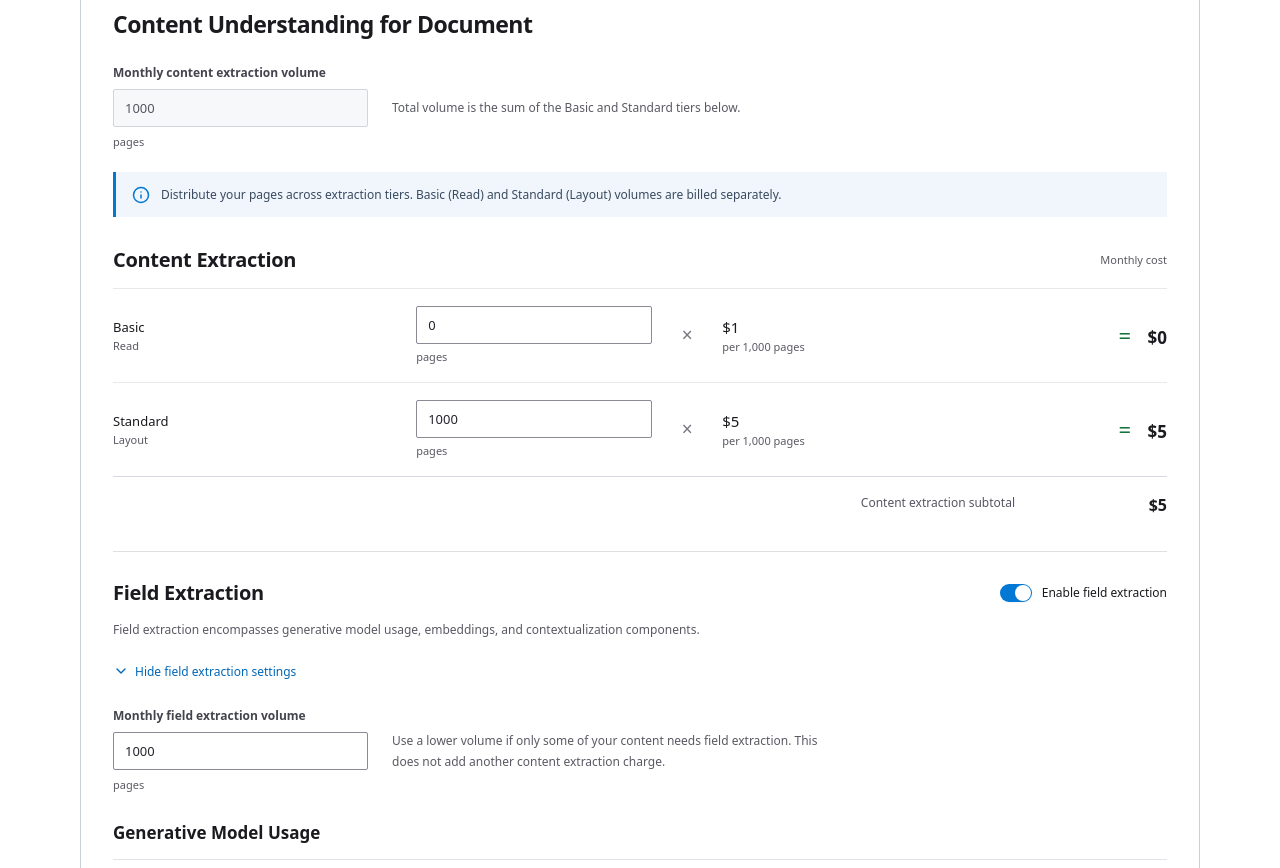
Scenario: Pricing calculator UI › enforces the specified 10,000,000 billing-unit limit without a partial total
(page scrolled)
Replace the text in the 2nd number field named "Standard volume" with "10000001" at (534, 419), box [416,400,652,438]
(page scrolled)
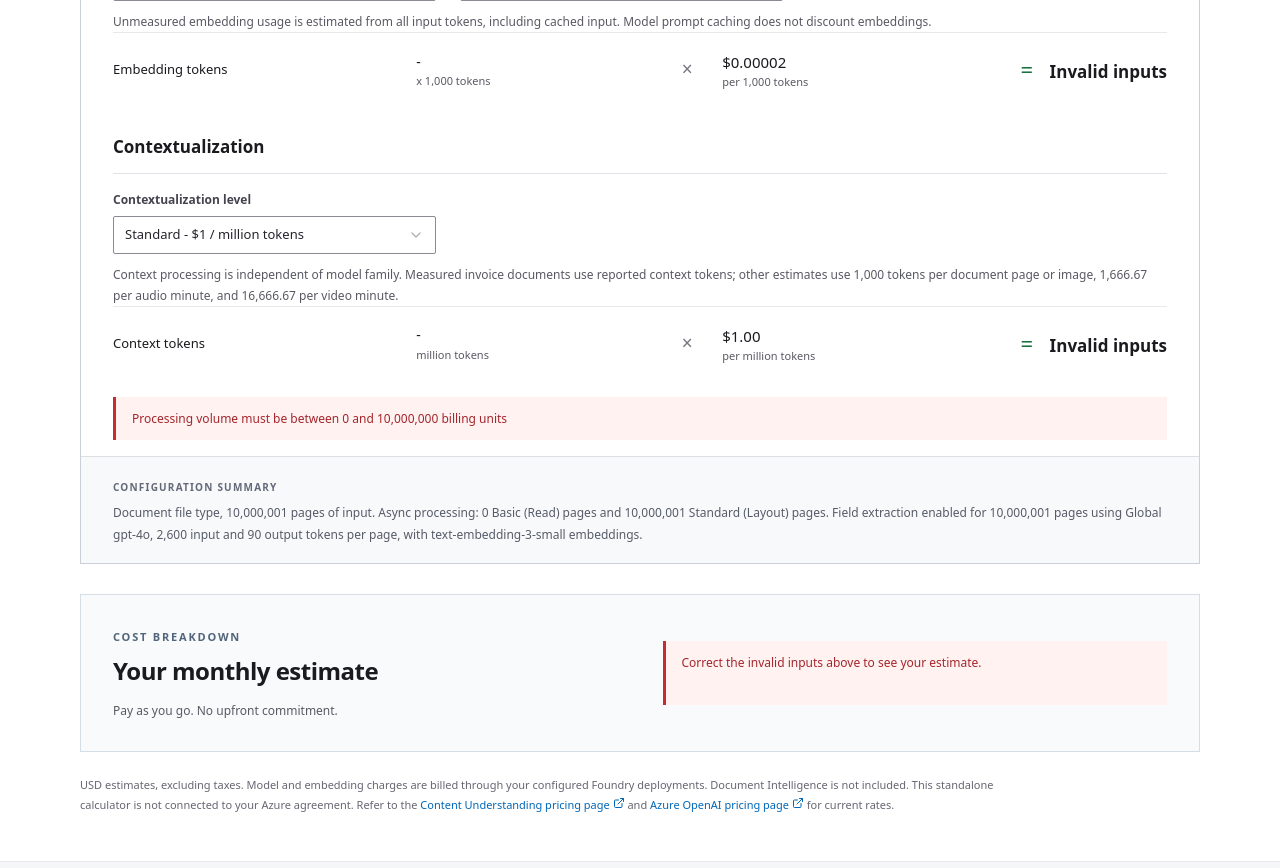
Now the message shows "between 0 and 10,000,000", box [132,410,507,427]
